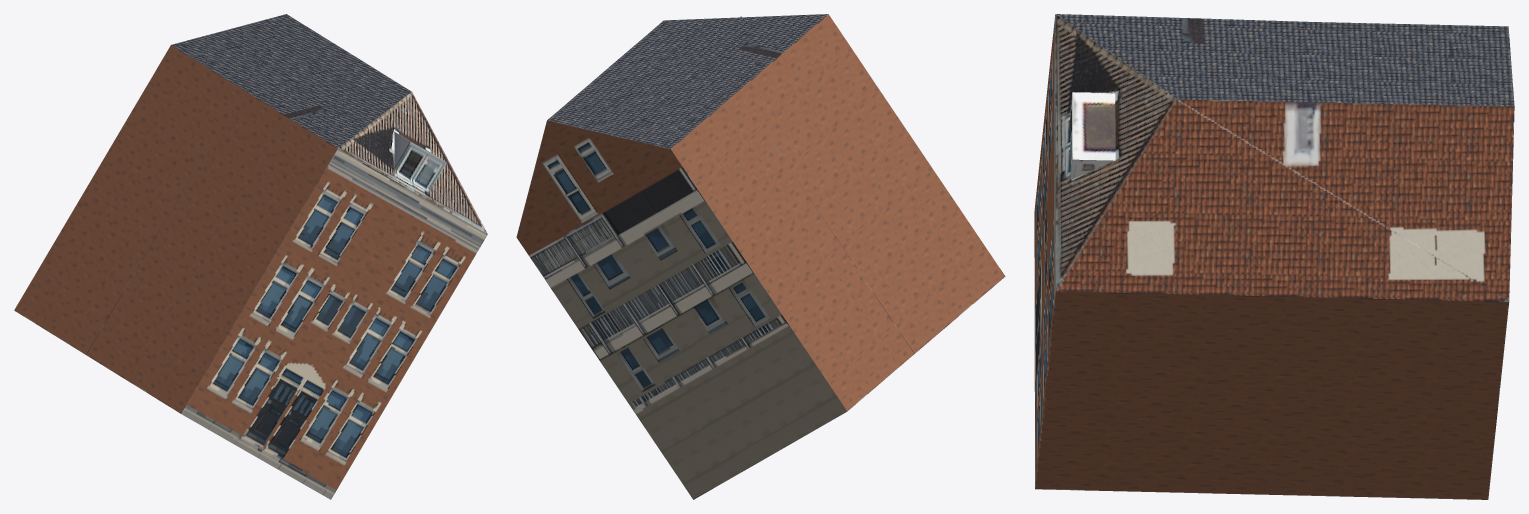
3 renders of one model, left to right at view 1: azimuth 30°, elevation 25°; view 2: azimuth 150°, elevation 25°; view 3: azimuth 270°, elevation 25°, orthographic. The views are drawn at different scales.
Parts seen in each view (by area): view 1: BAG_0599100000675848 (×3); view 2: BAG_0599100000675848 (×3); view 3: BAG_0599100000675848 (×4).
Boxes of the visible parts, x1,y1,x2,y2 form: BAG_0599100000675848 (×3): [14, 14, 487, 499]; BAG_0599100000675848 (×3): [516, 14, 1005, 499]; BAG_0599100000675848 (×4): [1034, 14, 1514, 499].
Bounding box in the file's own units: 13.7 × 14.43 × 12.53.
Materials: 1 (1 with a texture image).
